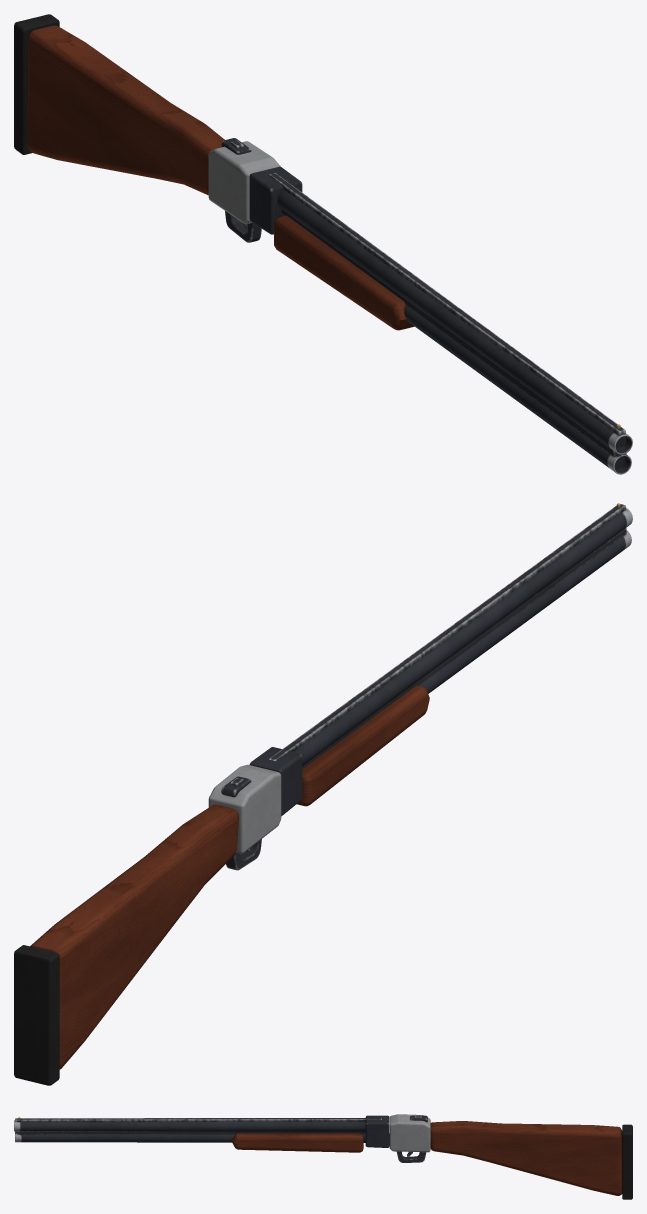
3 views of the same model, one above another, from view 1: azimuth 30°, elevation 25°; view 2: azimuth 150°, elevation 25°; view 3: azimuth 270°, elevation 25° (orthographic). The views are drawn at different scales.
Parts seen in each view (by area): view 1: body, bolt_mesh; view 2: body, bolt_mesh; view 3: body, bolt_mesh.
Boxes of the visible parts, x1,y1,x2,y2 form: body: (14, 14, 280, 242); bolt_mesh: (249, 166, 632, 474); body: (14, 764, 281, 1085); bolt_mesh: (249, 503, 632, 816); body: (389, 1114, 632, 1199); bolt_mesh: (14, 1115, 389, 1152).
Bounding box in the file's own units: 0.042 × 0.162 × 1.14.
1 material, 1 textured.
